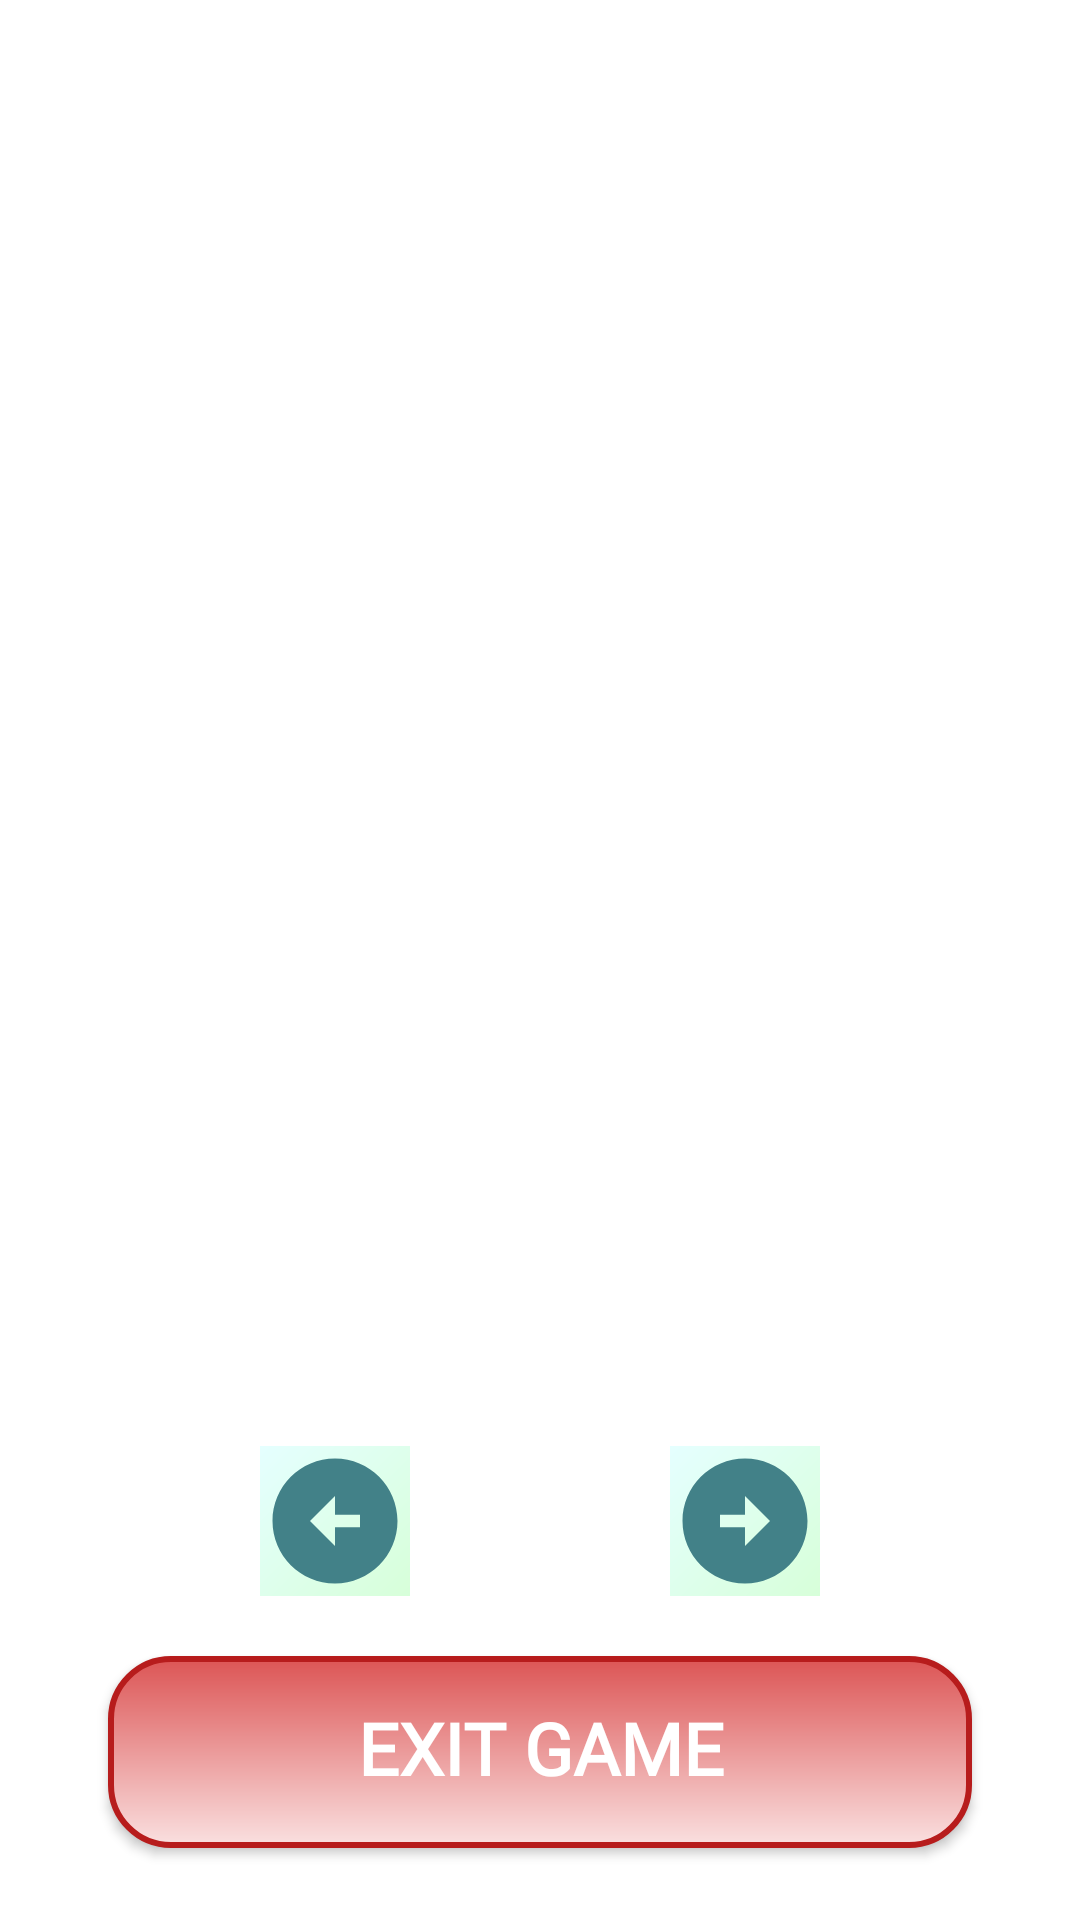

Named icons in this screenshot (1080px x 1920px) and their bounding boxes, region(x1, y1, x2, y2):
arrow circle left: region(260, 1446, 410, 1596)
arrow circle right: region(670, 1446, 820, 1596)
